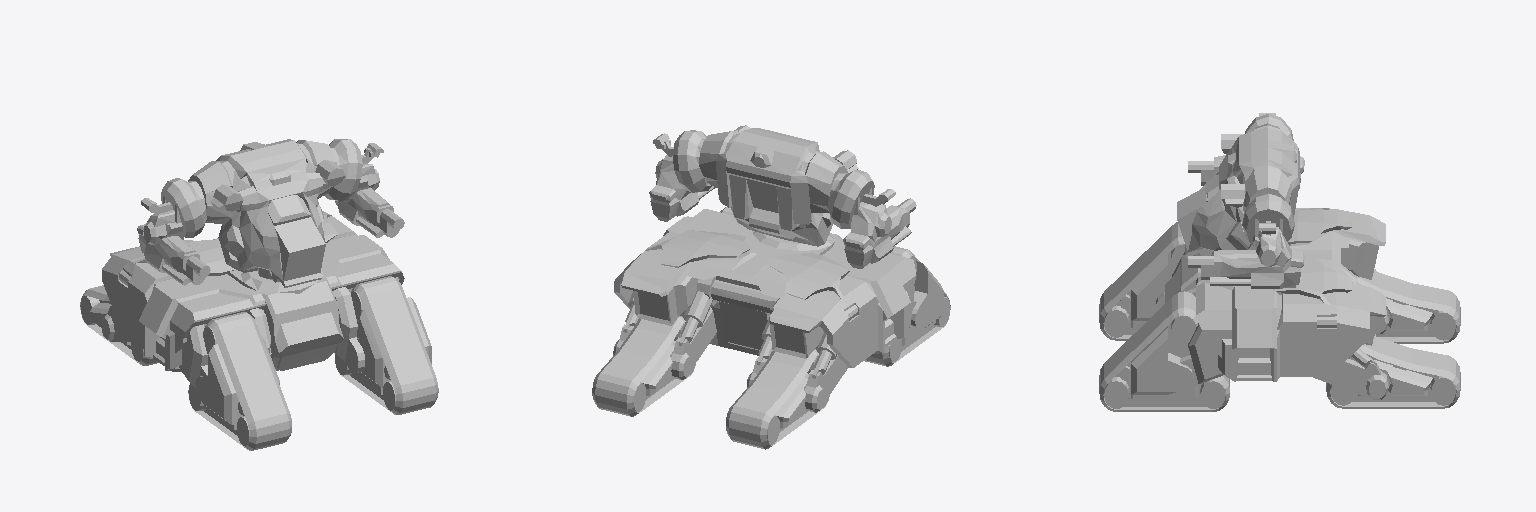
The model's file is tank.obj.
3 views of the same model, side by side, from view 1: azimuth 30°, elevation 25°; view 2: azimuth 150°, elevation 25°; view 3: azimuth 270°, elevation 25° (orthographic).
Parts seen in each view (by area): view 1: Mesh_mesh0026.001; view 2: Mesh_mesh0026.001; view 3: Mesh_mesh0026.001.
Boxes of the visible parts, x1,y1,x2,y2 form: Mesh_mesh0026.001: [80, 139, 438, 450]; Mesh_mesh0026.001: [592, 125, 950, 449]; Mesh_mesh0026.001: [1099, 113, 1460, 411].
Bounding box in the file's own units: 1194 × 1058 × 1539.